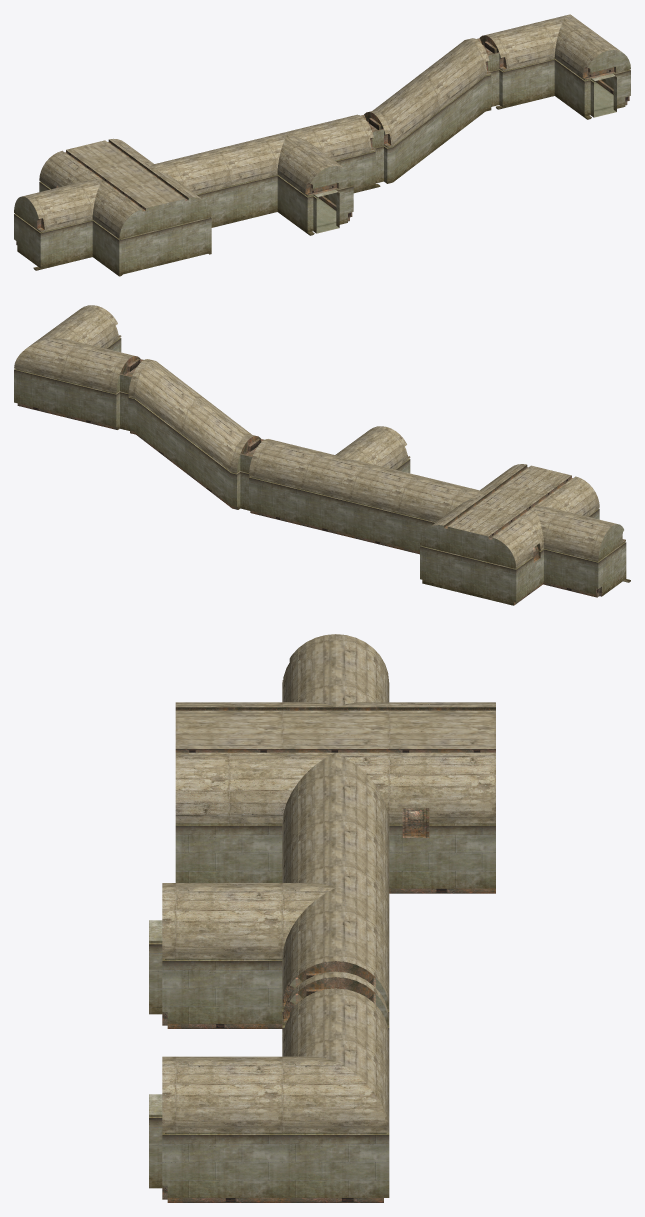
File: poi_all_bunker_allum_mine_r1_airlock_mesh_r1.fbx
3 views of the same model, one above another, from view 1: azimuth 30°, elevation 25°; view 2: azimuth 150°, elevation 25°; view 3: azimuth 270°, elevation 25° (orthographic). The views are drawn at different scales.
Visible parts, largest first — view 1: mesh_node; view 2: mesh_node; view 3: mesh_node.
Part boxes in pixels (x1,y1,x2,y2): mesh_node: [14, 14, 630, 276]; mesh_node: [14, 305, 630, 605]; mesh_node: [149, 634, 495, 1202].
Bounding box in the file's own units: 48.9 × 9.1 × 13.
